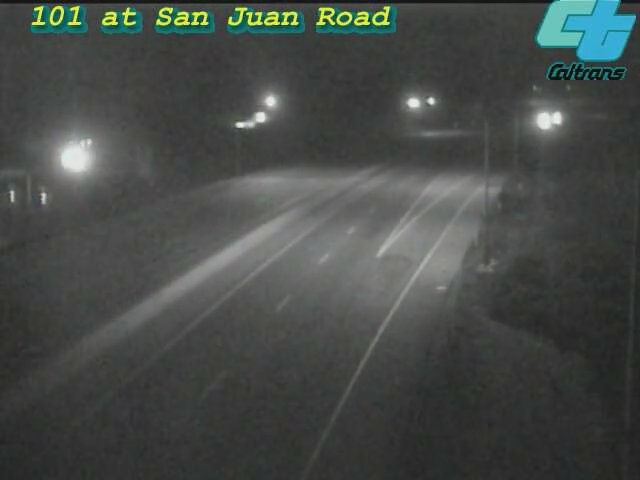vehicle: (519, 96, 569, 146), (529, 93, 579, 143)
